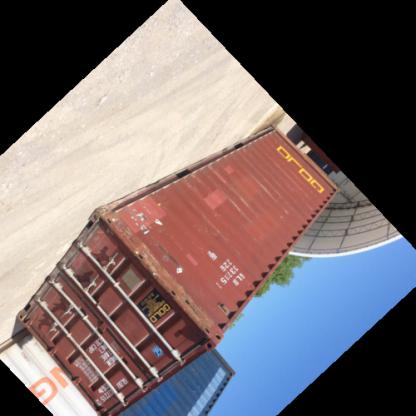Damage: (148, 247, 214, 344), (104, 192, 170, 240), (195, 204, 225, 245), (227, 193, 258, 227), (256, 174, 283, 204), (207, 164, 238, 186), (274, 211, 290, 223)
